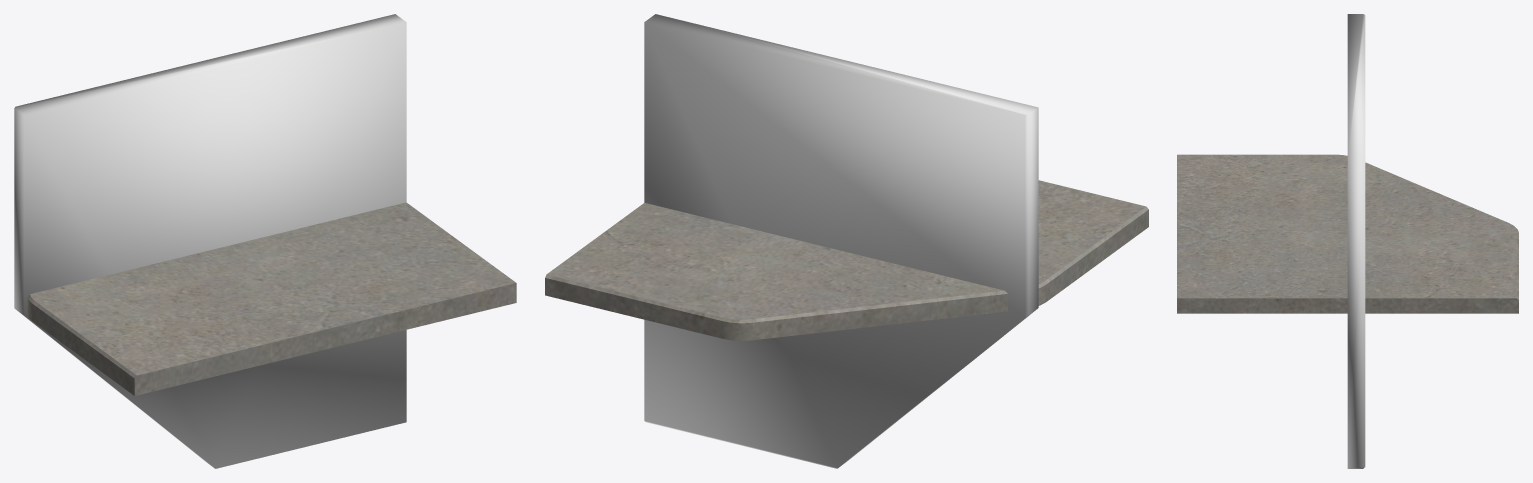
The model's file is SM_Sidewalk_Corner_Ext.fbx.
3 views of the same model, side by side, from view 1: azimuth 30°, elevation 25°; view 2: azimuth 150°, elevation 25°; view 3: azimuth 270°, elevation 25° (orthographic). The views are drawn at different scales.
Visible parts, largest first — view 1: SM_Sidewalk_Corner_Ext_ConvexHulls, SM_Sidewalk_Corner_Ext; view 2: SM_Sidewalk_Corner_Ext_ConvexHulls, SM_Sidewalk_Corner_Ext; view 3: SM_Sidewalk_Corner_Ext, SM_Sidewalk_Corner_Ext_ConvexHulls.
Boxes of the visible parts, left/top/right/bottom form: SM_Sidewalk_Corner_Ext_ConvexHulls: left=14, top=14, right=406, bottom=468; SM_Sidewalk_Corner_Ext: left=27, top=202, right=516, bottom=395; SM_Sidewalk_Corner_Ext_ConvexHulls: left=644, top=14, right=1038, bottom=468; SM_Sidewalk_Corner_Ext: left=545, top=180, right=1148, bottom=340; SM_Sidewalk_Corner_Ext: left=1177, top=154, right=1518, bottom=313; SM_Sidewalk_Corner_Ext_ConvexHulls: left=1347, top=14, right=1365, bottom=468.
Bounding box in the file's own units: 2 × 2 × 2.
